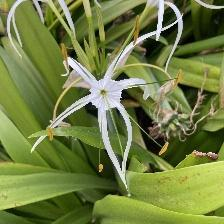spider lily: (66, 54, 149, 155)
